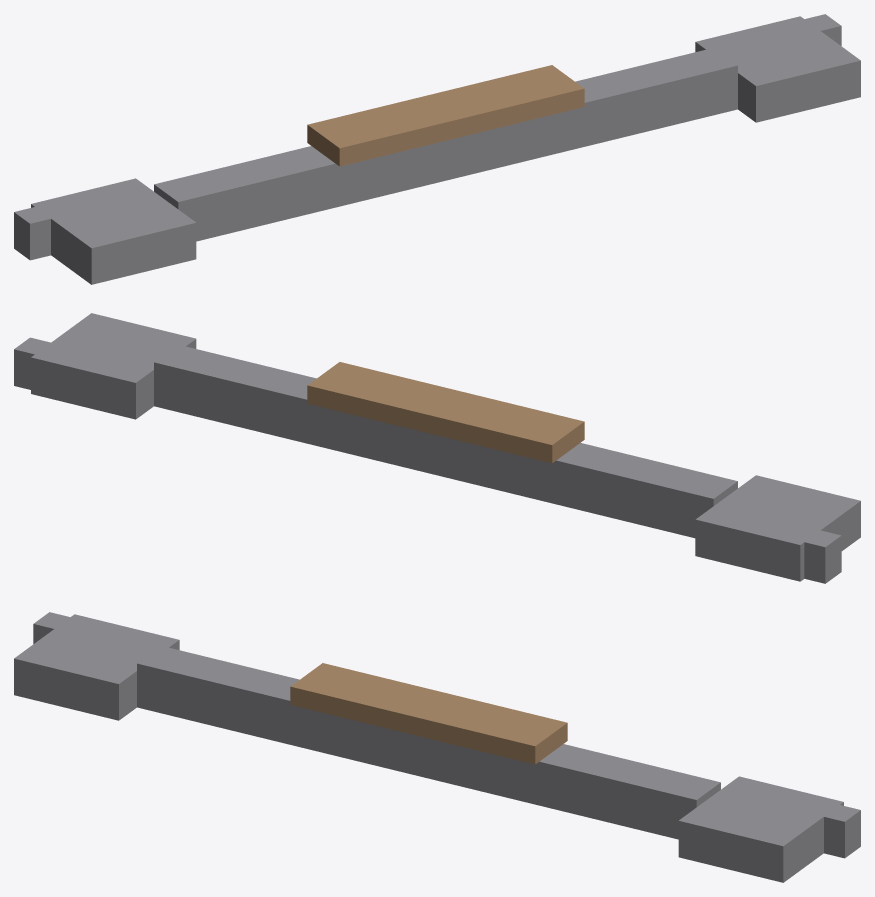
File: prop-glass-grozing-iron.fbx
3 renders of one model, top to bottom at view 1: azimuth 30°, elevation 25°; view 2: azimuth 150°, elevation 25°; view 3: azimuth 330°, elevation 25°, orthographic.
Parts seen in each view (by area): view 1: prop-glass-grozing-iron; view 2: prop-glass-grozing-iron; view 3: prop-glass-grozing-iron.
Boxes of the visible parts, x1,y1,x2,y2 form: prop-glass-grozing-iron: (14, 14, 860, 284); prop-glass-grozing-iron: (14, 313, 860, 583); prop-glass-grozing-iron: (14, 612, 860, 882).
Bounding box in the file's own units: 23.2 × 1.7 × 3.
